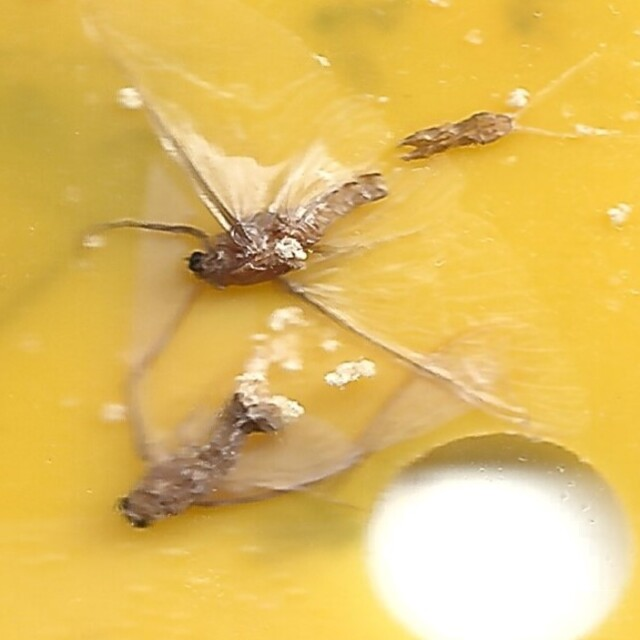Ephemeroptera: (175, 98, 529, 300), (111, 385, 274, 542)
